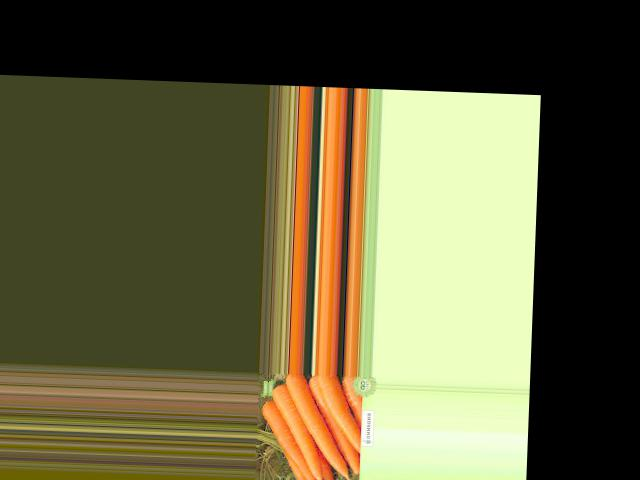carrot: (304, 375, 365, 476)
